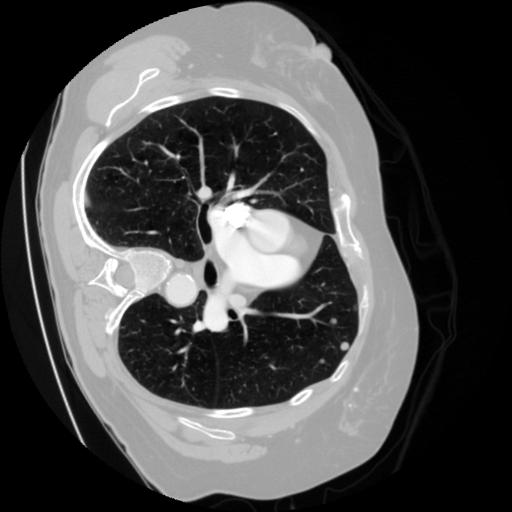nodule: (337, 336, 354, 353)
